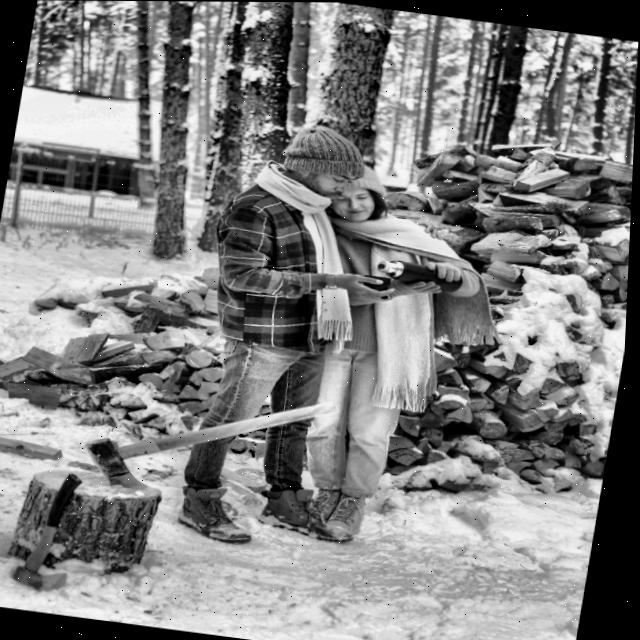kapak: (0, 348, 352, 636)
